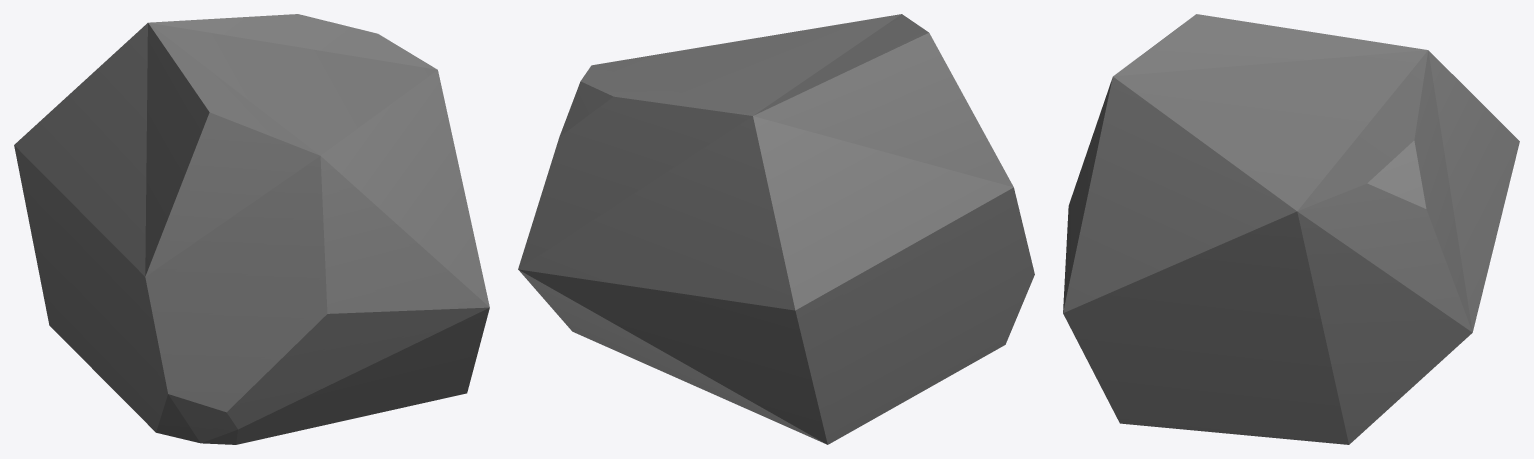
File: stone-small-12.glb
3 views of the same model, side by side, from view 1: azimuth 30°, elevation 25°; view 2: azimuth 150°, elevation 25°; view 3: azimuth 270°, elevation 25° (orthographic). The views are drawn at different scales.
Visible parts, largest first — view 1: stone small 12; view 2: stone small 12; view 3: stone small 12.
Part boxes in pixels (x1,y1,x2,y2): stone small 12: (14, 14, 489, 444); stone small 12: (518, 14, 1034, 444); stone small 12: (1063, 14, 1519, 444).
Size of the model in its own units: 0.3852 by 0.3618 by 0.436.
1 material, 1 textured.
